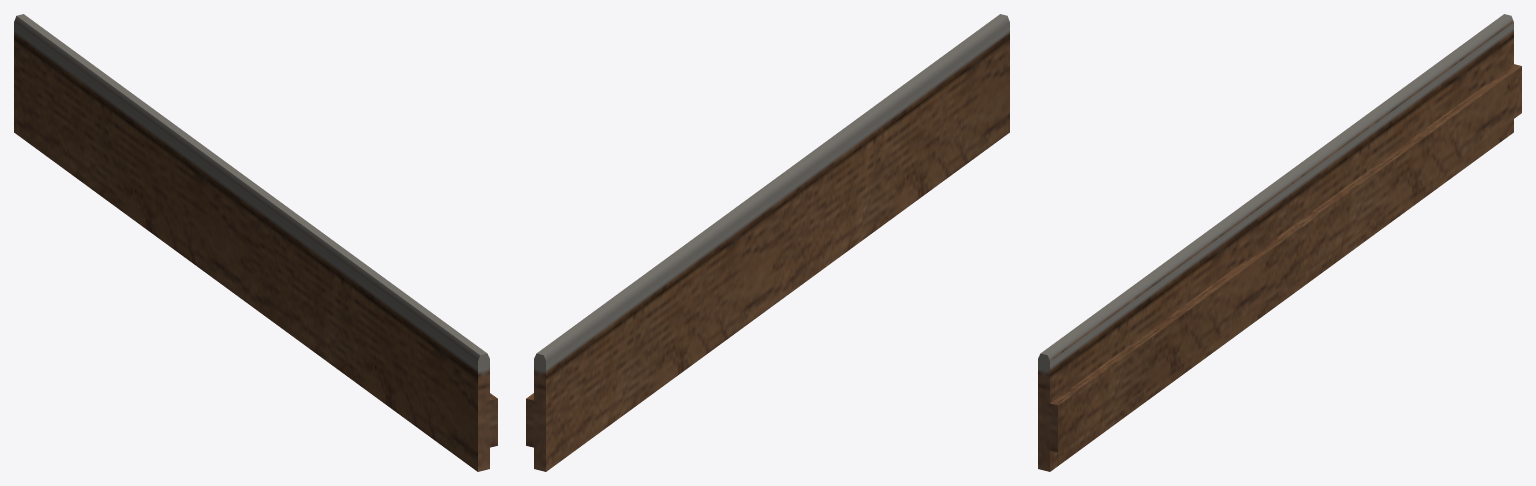
Rendered from HH_Wall_Guard_2m_01.fbx.
3 renders of one model, left to right at view 1: azimuth 30°, elevation 25°; view 2: azimuth 150°, elevation 25°; view 3: azimuth 330°, elevation 25°, orthographic.
Parts seen in each view (by area): view 1: HH_Wall_Guard_2m_01; view 2: HH_Wall_Guard_2m_01; view 3: HH_Wall_Guard_2m_01.
Boxes of the visible parts, x1,y1,x2,y2 form: HH_Wall_Guard_2m_01: [14, 14, 497, 471]; HH_Wall_Guard_2m_01: [526, 14, 1009, 471]; HH_Wall_Guard_2m_01: [1038, 14, 1521, 471].
Bounding box in the file's own units: 5.01 × 27.63 × 200.
